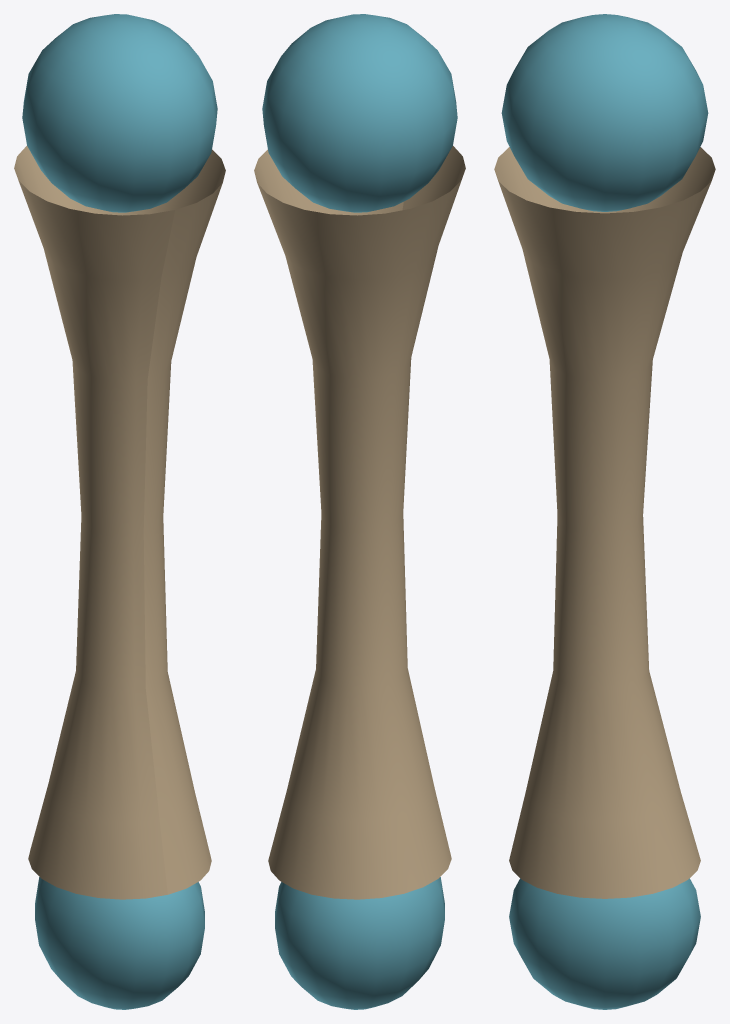
The model's file is right_metacarpal_5.glb.
3 views of the same model, side by side, from view 1: azimuth 30°, elevation 25°; view 2: azimuth 150°, elevation 25°; view 3: azimuth 270°, elevation 25° (orthographic).
Parts seen in each view (by area): view 1: right_metacarpal_5:diaphysis, right_metacarpal_5:proximal-envelope, right_metacarpal_5:distal-envelope; view 2: right_metacarpal_5:diaphysis, right_metacarpal_5:proximal-envelope, right_metacarpal_5:distal-envelope; view 3: right_metacarpal_5:diaphysis, right_metacarpal_5:proximal-envelope, right_metacarpal_5:distal-envelope.
Boxes of the visible parts, left/top/right/bottom form: right_metacarpal_5:diaphysis: left=14, top=146, right=225, bottom=899; right_metacarpal_5:proximal-envelope: left=22, top=14, right=217, bottom=212; right_metacarpal_5:distal-envelope: left=35, top=877, right=204, bottom=1009; right_metacarpal_5:diaphysis: left=254, top=146, right=465, bottom=899; right_metacarpal_5:proximal-envelope: left=262, top=14, right=457, bottom=212; right_metacarpal_5:distal-envelope: left=275, top=877, right=444, bottom=1009; right_metacarpal_5:diaphysis: left=494, top=147, right=715, bottom=898; right_metacarpal_5:proximal-envelope: left=501, top=14, right=708, bottom=211; right_metacarpal_5:distal-envelope: left=509, top=878, right=700, bottom=1009.
Bounding box in the file's own units: 0.0247 × 0.1276 × 0.0261.
